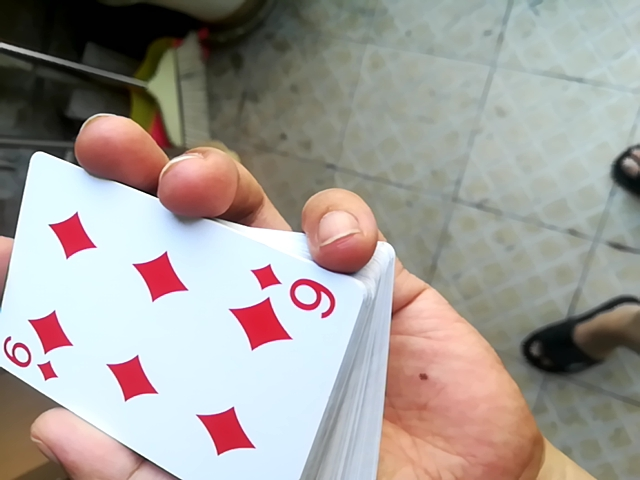fk 6: (1, 150, 386, 479)
